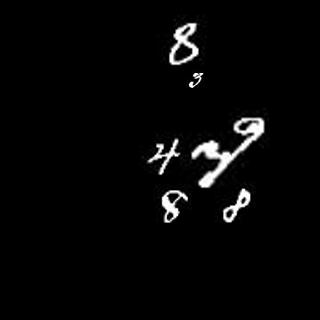eight: (161, 22, 204, 66), (221, 188, 251, 225), (161, 187, 186, 223)
four: (146, 139, 179, 176)
nine: (233, 112, 267, 158)
three: (185, 70, 208, 90)
